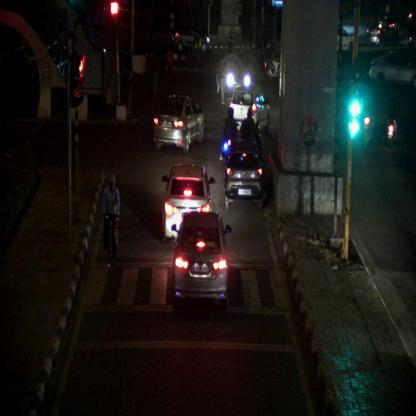car: (168, 210, 232, 311), (163, 166, 217, 244), (153, 94, 204, 153), (225, 149, 263, 211), (229, 86, 271, 131), (369, 50, 415, 88)
motorcycle: (220, 108, 236, 161), (386, 97, 398, 147)
